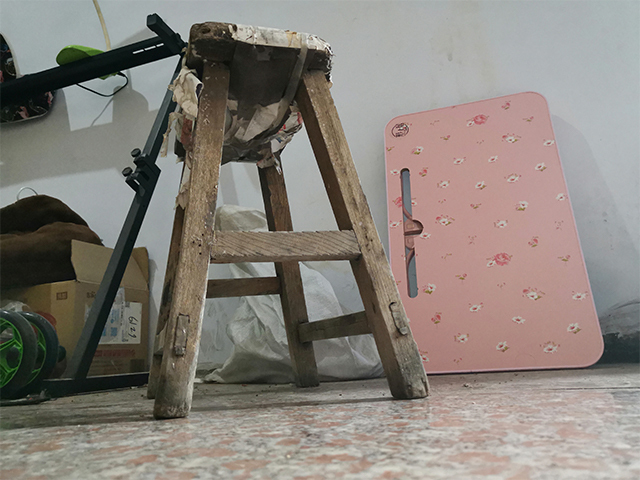stool: (142, 20, 438, 423)
